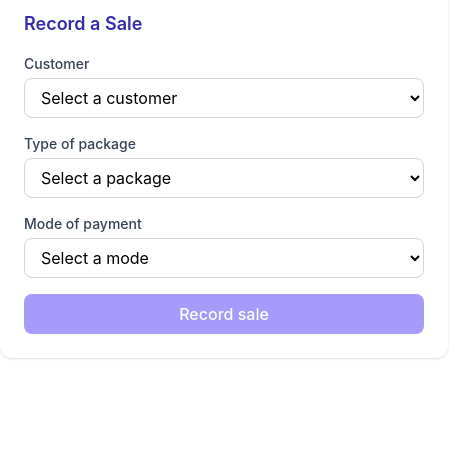
it: SaleForm › auto-fills amount and validity when a package is selected, and records the sale
The width and height of the screenshot is (465, 462).
Select "Lena Ortiz (C00001)" in the dropdown labelled "Customer": (224, 98) [24, 78, 424, 118]
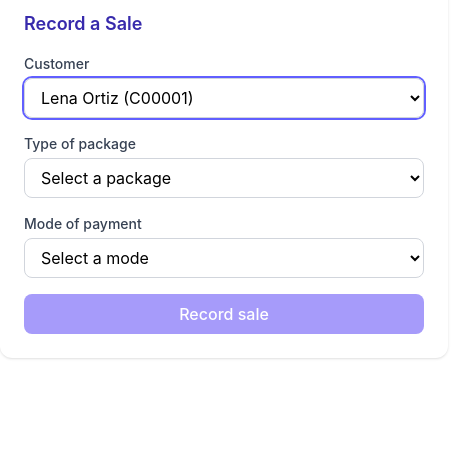
Select "General 10-Class Pack ($150)" in the dropdown labelled "Type of package": (224, 178) [24, 158, 424, 198]
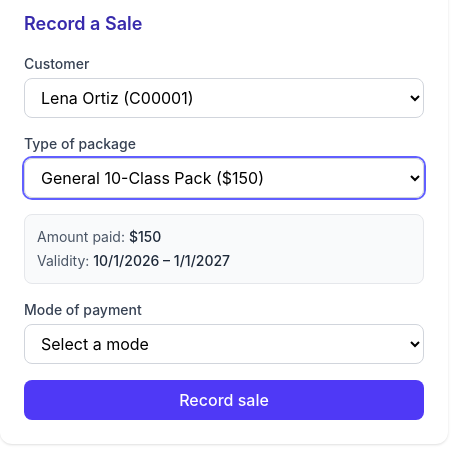
Expected: the text "$150" is shown, [129, 228, 161, 245]
Select "Card" in the dropdown labelled "Mode of payment": (224, 344) [24, 324, 424, 364]
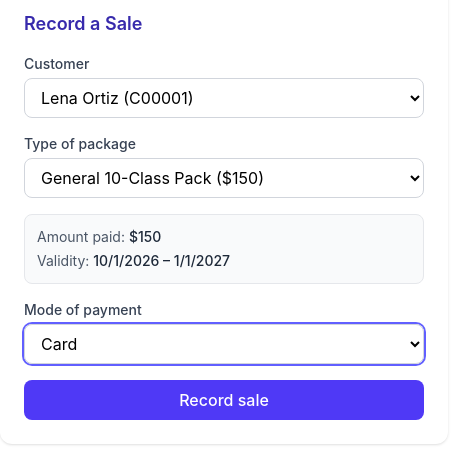
Click the button "Record sale": click(224, 400) [24, 380, 424, 420]
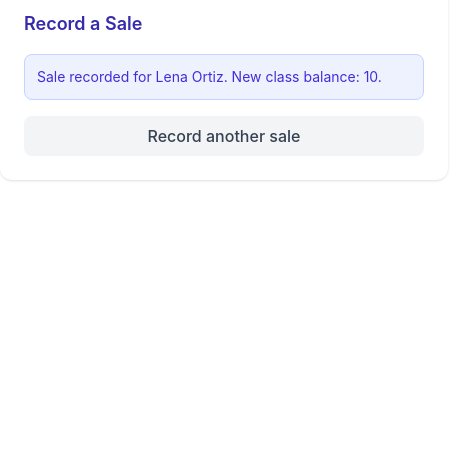
Expected: the text "Sale recorded for Lena Ortiz. New class balance: 10." is shown, [24, 54, 424, 100]
